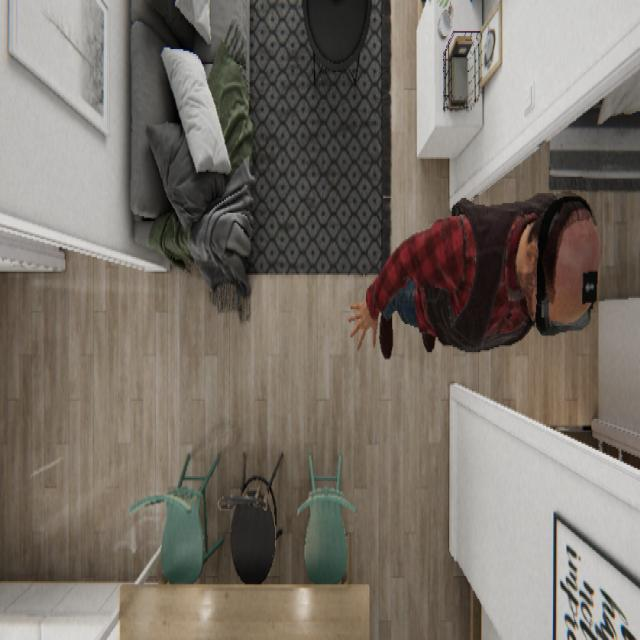Human: (348, 188, 601, 358)
UnityLogo: (580, 267, 598, 304)
